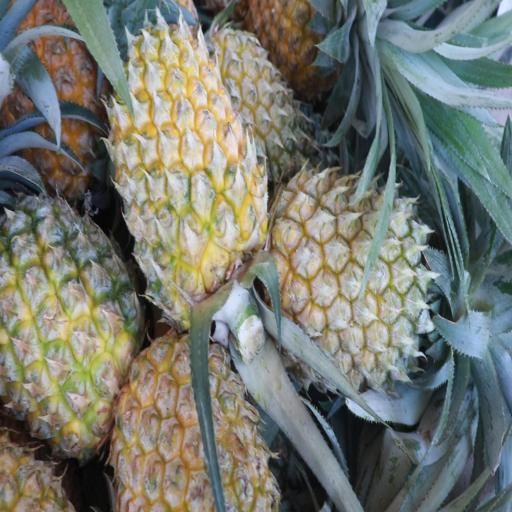------------------------------: (0, 185, 145, 466)
Pineapple - v8 v1: (104, 14, 272, 348), (254, 162, 448, 406), (236, 0, 384, 127)
